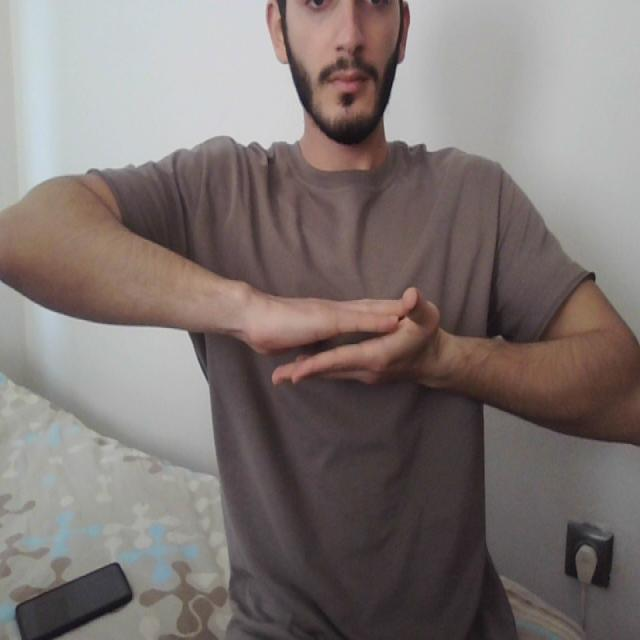Arkadas: (136, 261, 541, 426)
